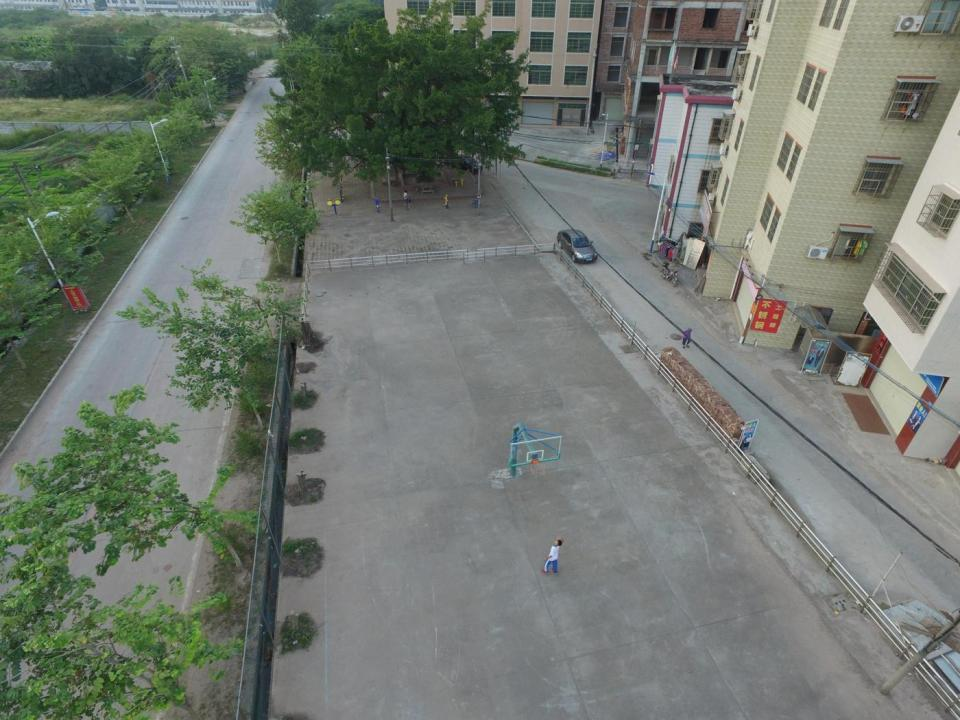car: (556, 229, 598, 263), (443, 154, 483, 174)
